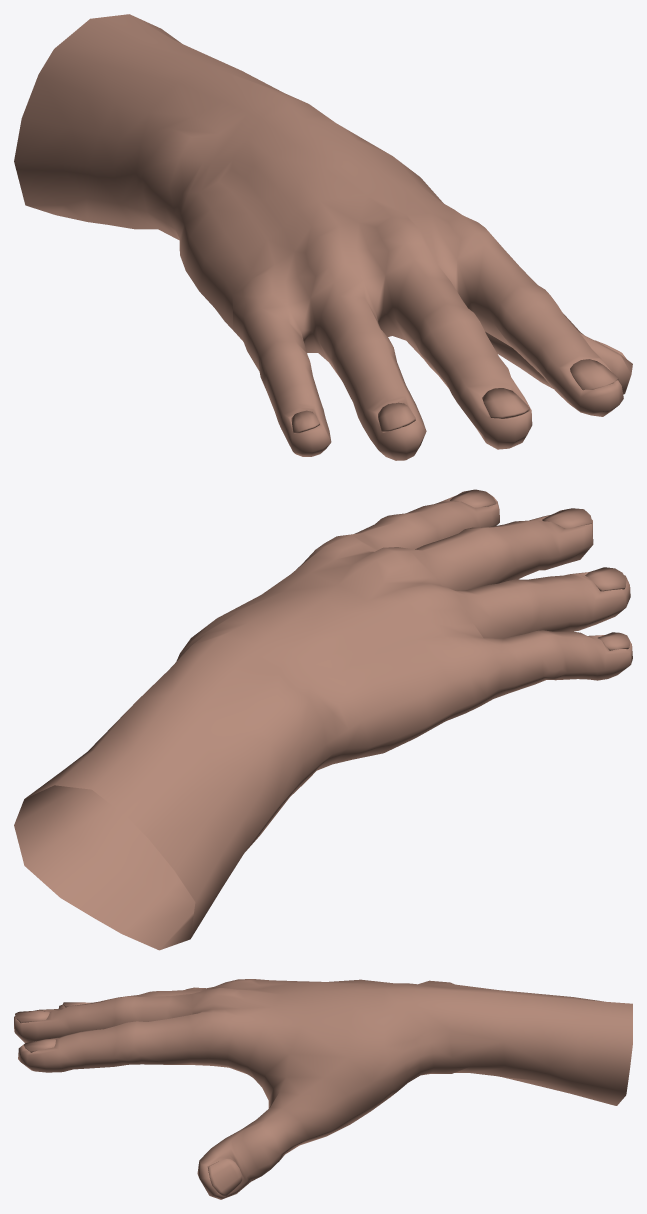
The model's file is 4_1_HandSmoothRightBack.glb.
The picture shows the model from 3 angles, top to bottom: view 1: azimuth 30°, elevation 25°; view 2: azimuth 150°, elevation 25°; view 3: azimuth 270°, elevation 25°; orthographic projection. The views are drawn at different scales.
Visible parts, largest first — view 1: hand1_polySurface891.001; view 2: hand1_polySurface891.001; view 3: hand1_polySurface891.001.
Boxes of the visible parts, bbox=[...] form: hand1_polySurface891.001: bbox=[14, 14, 632, 460]; hand1_polySurface891.001: bbox=[14, 489, 632, 950]; hand1_polySurface891.001: bbox=[14, 979, 632, 1199].
Bounding box in the file's own units: 0.0875 × 0.0487 × 0.1779.
